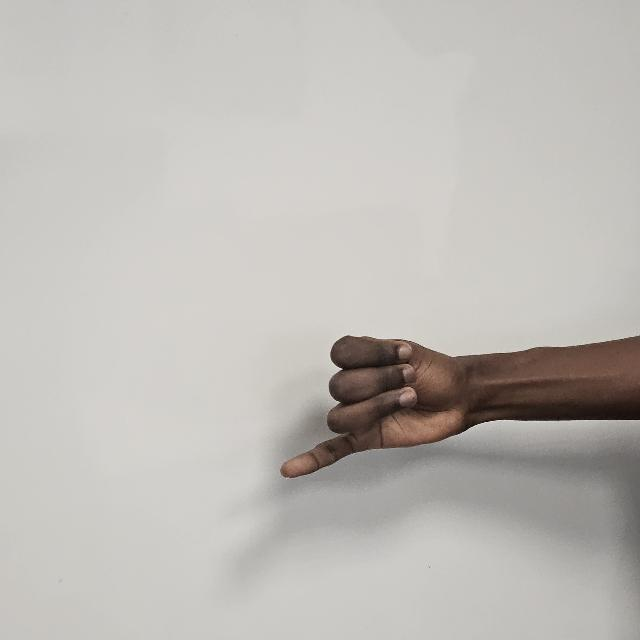Esquerda: (272, 308, 464, 492)
